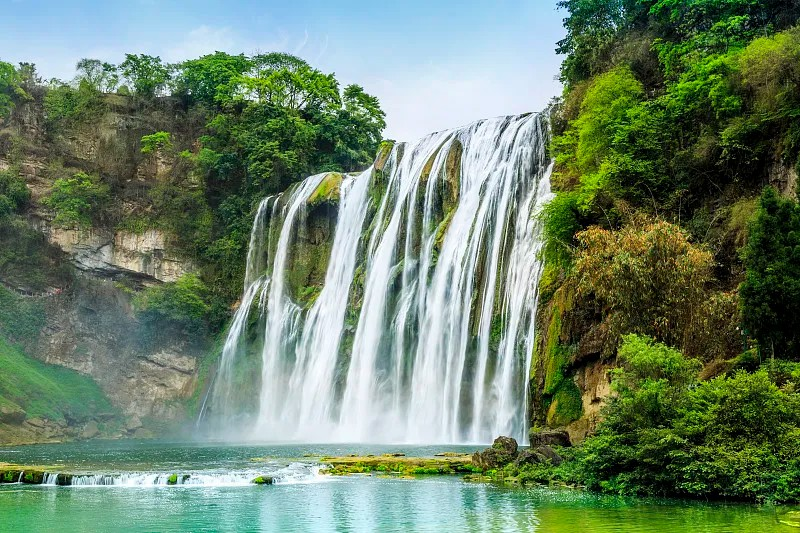Huangguoshu: (206, 114, 554, 445)
